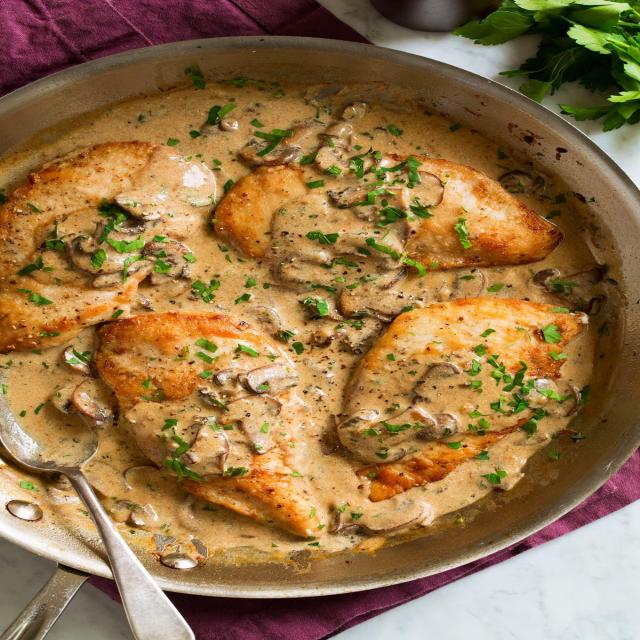chicken: (0, 97, 592, 563)
